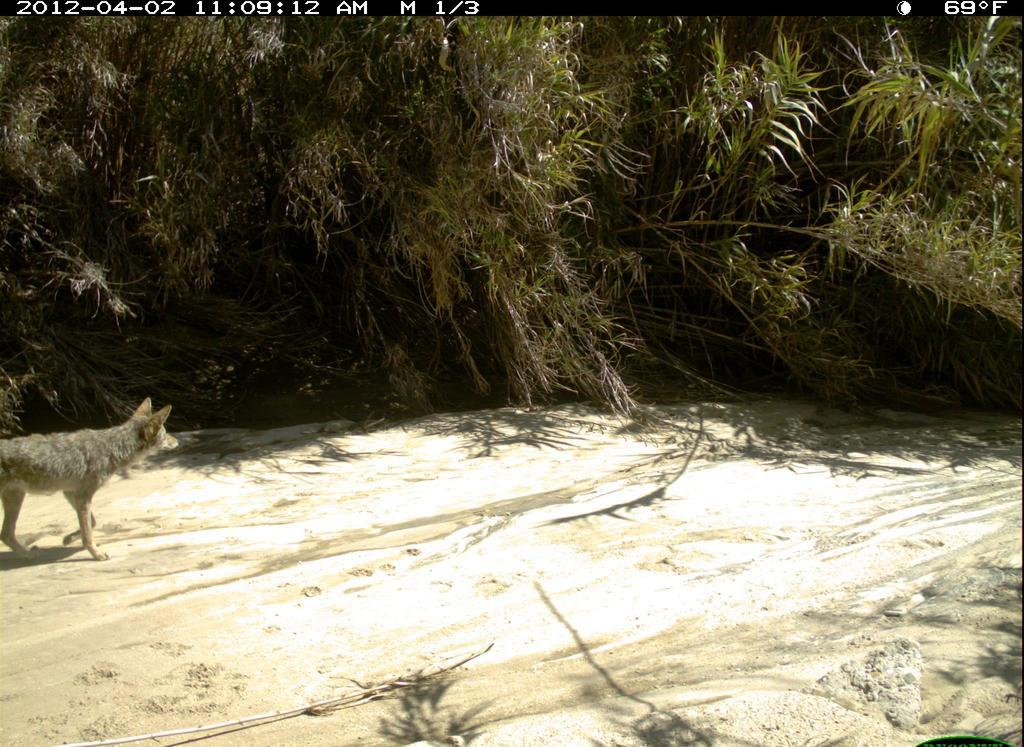coyote: (3, 390, 185, 566)
